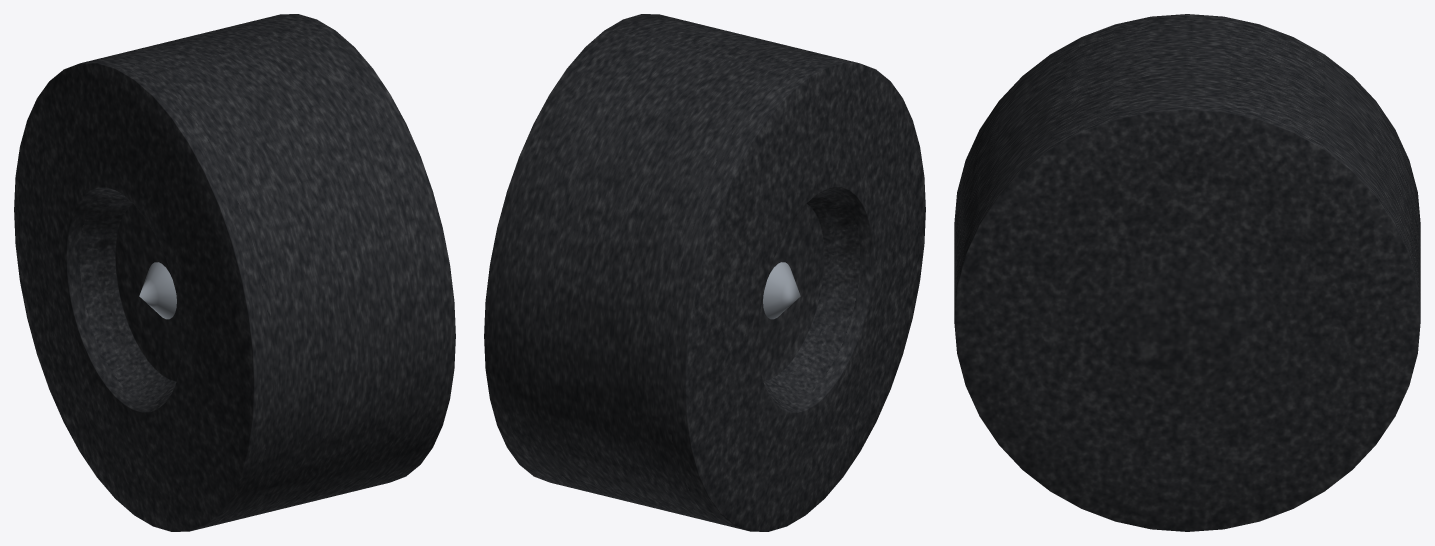
File: F1_94_wheel_rear_geometry.glb
The picture shows the model from 3 angles, left to right: view 1: azimuth 30°, elevation 25°; view 2: azimuth 150°, elevation 25°; view 3: azimuth 270°, elevation 25°; orthographic projection. The views are drawn at different scales.
Visible parts, largest first — view 1: GEO_WHEEL_TIRE, GEO_WHEEL_HUB; view 2: GEO_WHEEL_TIRE, GEO_WHEEL_HUB; view 3: GEO_WHEEL_TIRE.
Part boxes in pixels (box(x1,y1,x2,y2)): GEO_WHEEL_TIRE: box(14, 14, 455, 531); GEO_WHEEL_HUB: box(139, 262, 176, 319); GEO_WHEEL_TIRE: box(484, 14, 925, 531); GEO_WHEEL_HUB: box(763, 262, 800, 319); GEO_WHEEL_TIRE: box(954, 14, 1420, 531).
Size of the model in its own units: 0.3314 by 0.6251 by 0.6251.
Materials: 2 (1 with a texture image).
